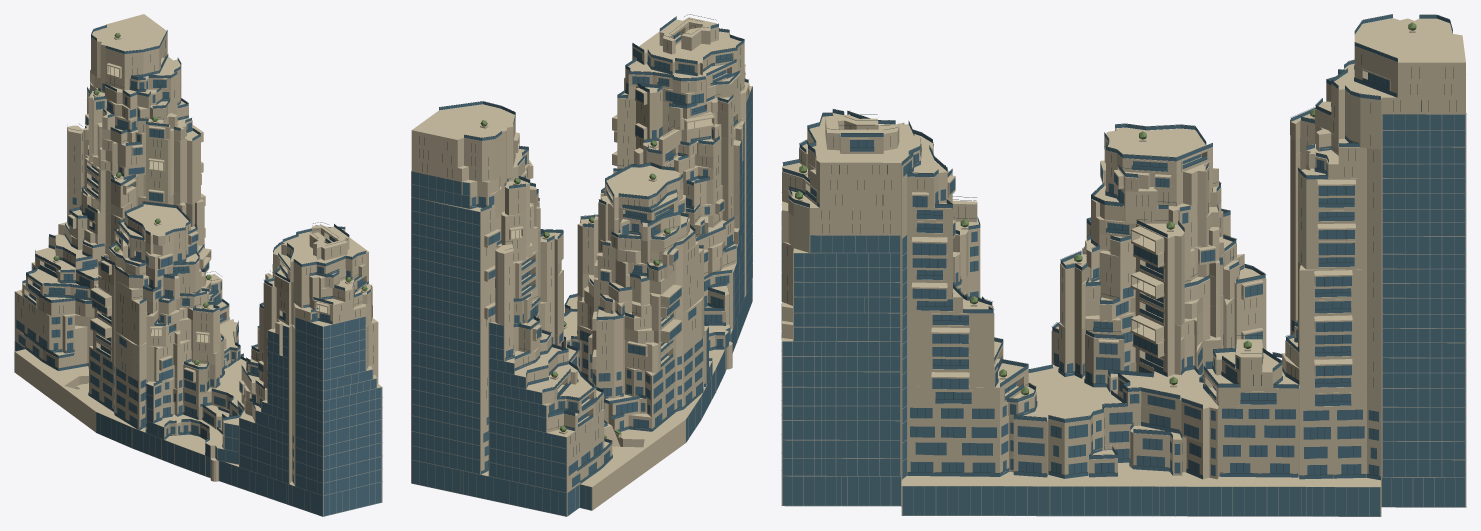
The model's file is valley.glb.
The picture shows the model from 3 angles, left to right: view 1: azimuth 30°, elevation 25°; view 2: azimuth 150°, elevation 25°; view 3: azimuth 270°, elevation 25°; orthographic projection. The views are drawn at different scales.
Visible parts, largest first — view 1: valley; view 2: valley; view 3: valley.
Boxes of the visible parts, <box> form: valley: <box>14,14,382,516</box>; valley: <box>411,14,752,516</box>; valley: <box>781,14,1466,516</box>.
Bounding box in the file's own units: 53.4 × 102 × 140.
